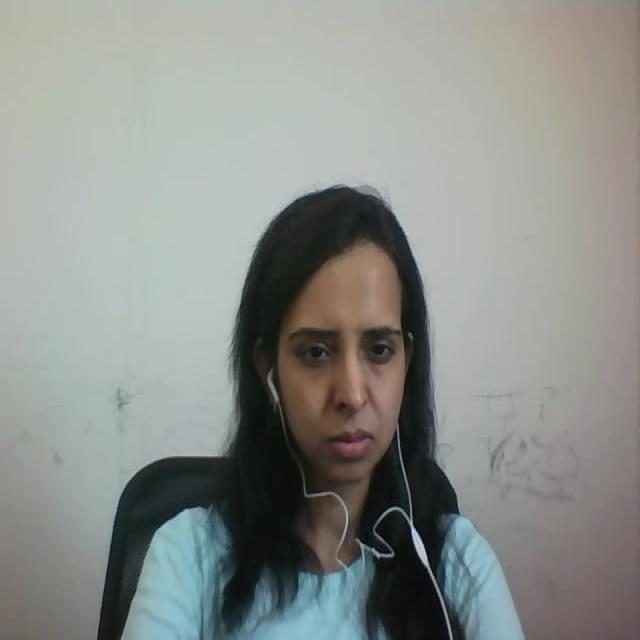Engaged: (203, 157, 470, 500)
